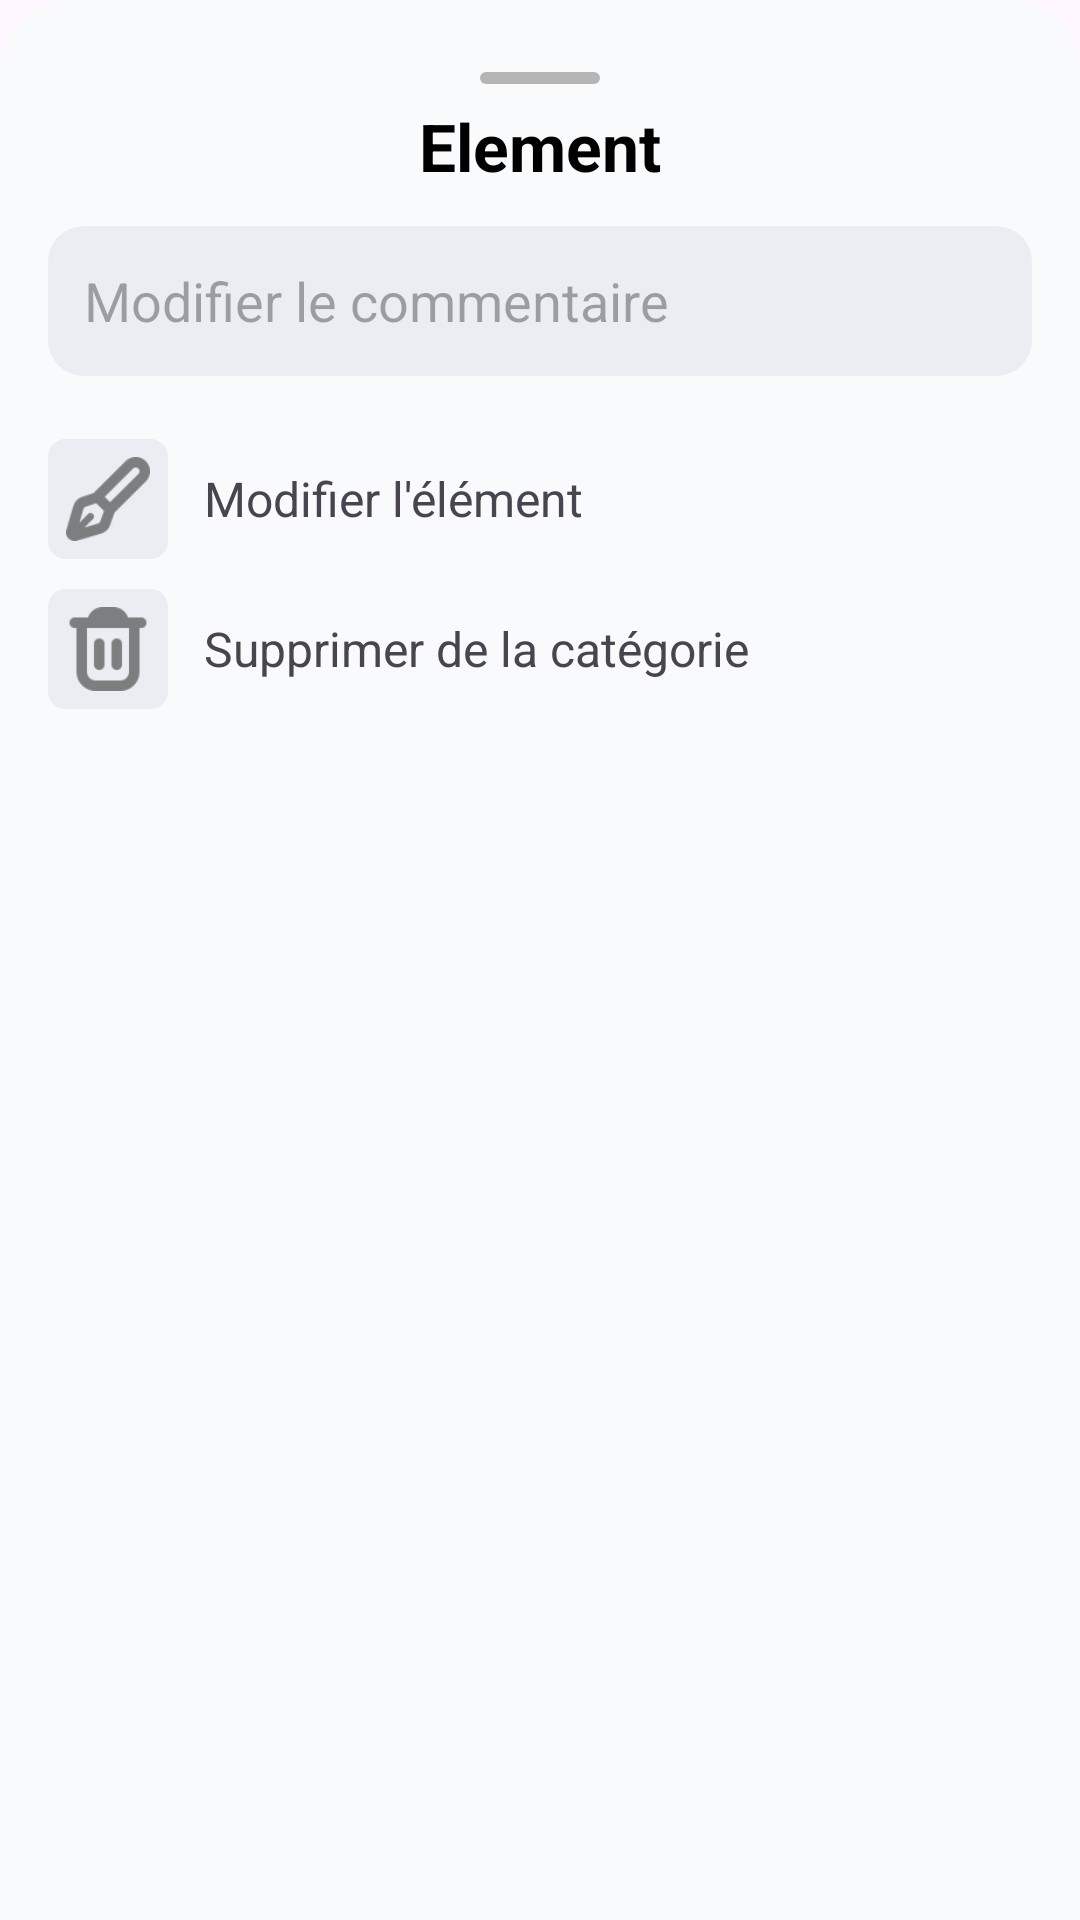

Screen size 1080 × 1920. Icon name, then its center in pixels as point (x, y):
edit: point (108, 499)
trash: point (108, 649)
